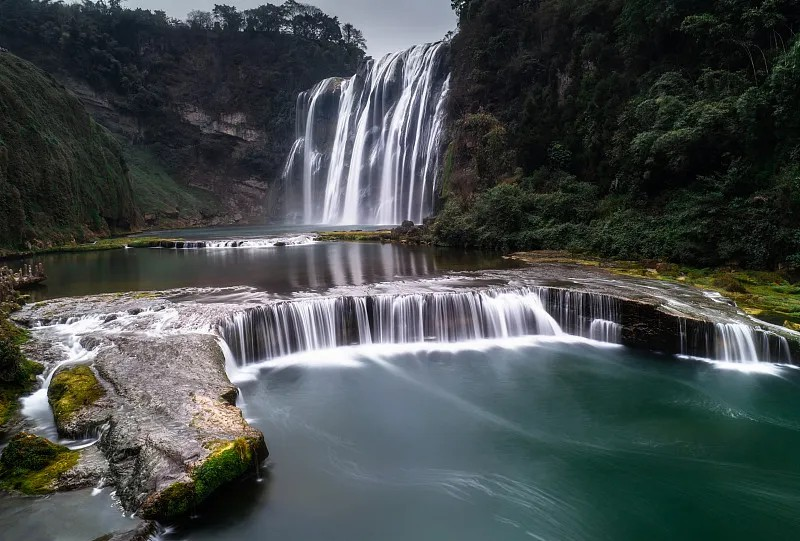Huangguoshu: (275, 41, 446, 225)
